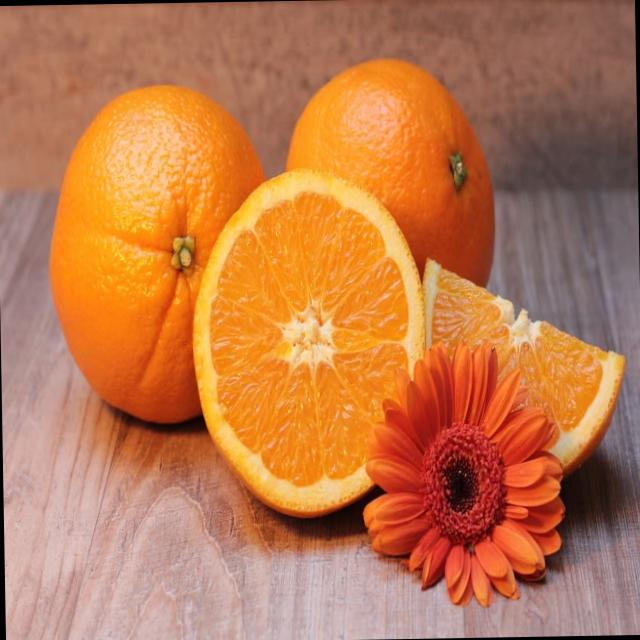orange: (46, 70, 276, 453), (282, 55, 506, 388)
